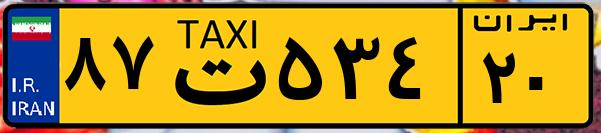0: (525, 38, 570, 115)
2: (475, 38, 525, 113)
3: (330, 28, 385, 110)
4: (385, 28, 445, 110)
5: (270, 28, 330, 110)
7: (110, 28, 158, 98)
8: (57, 26, 110, 100)
ت: (158, 12, 270, 120)
